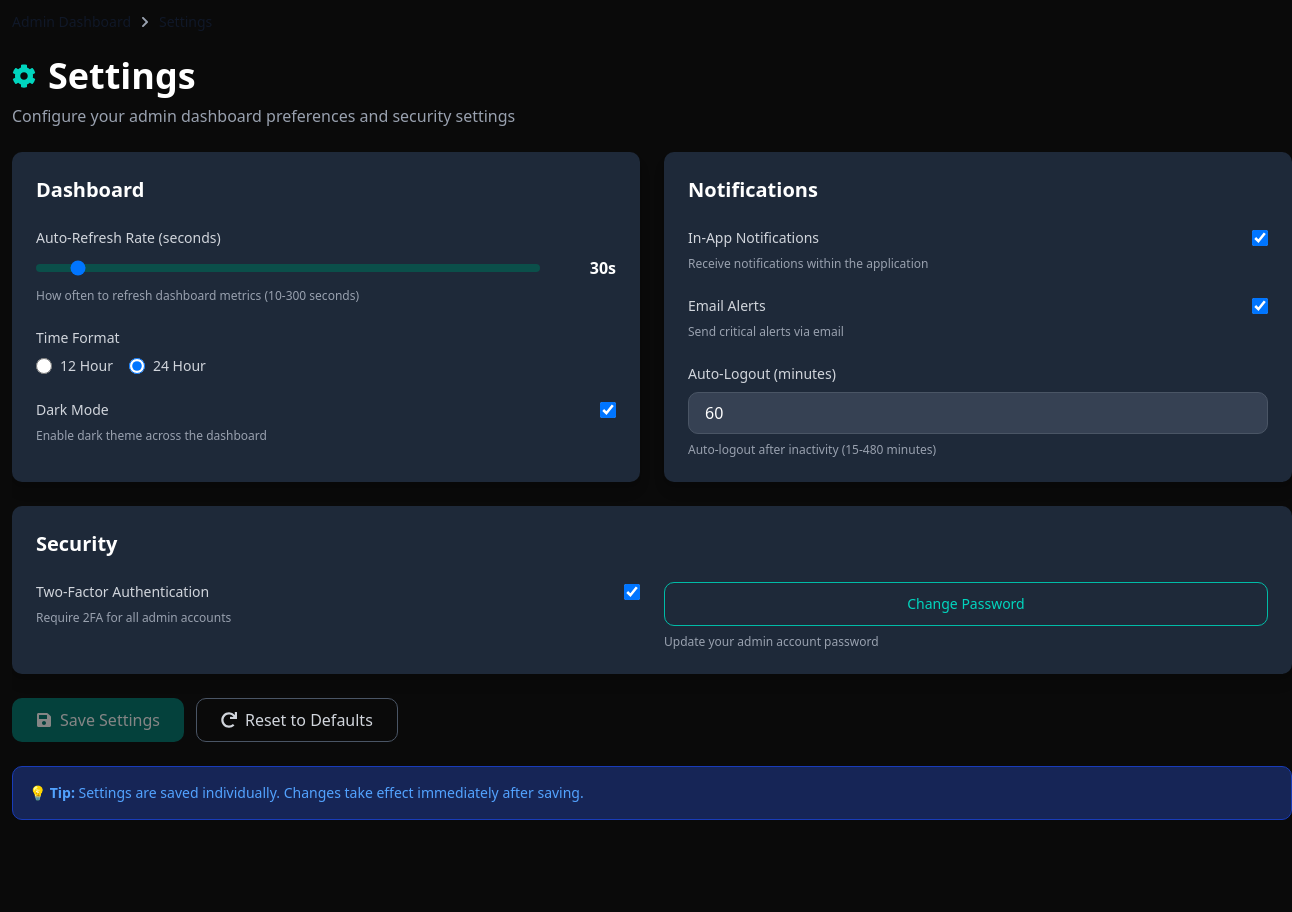
AdminSettings Component › Button States › save button becomes enabled after change
Step 1. Set the slider to "60" → (128, 268), box [36,264,540,272]
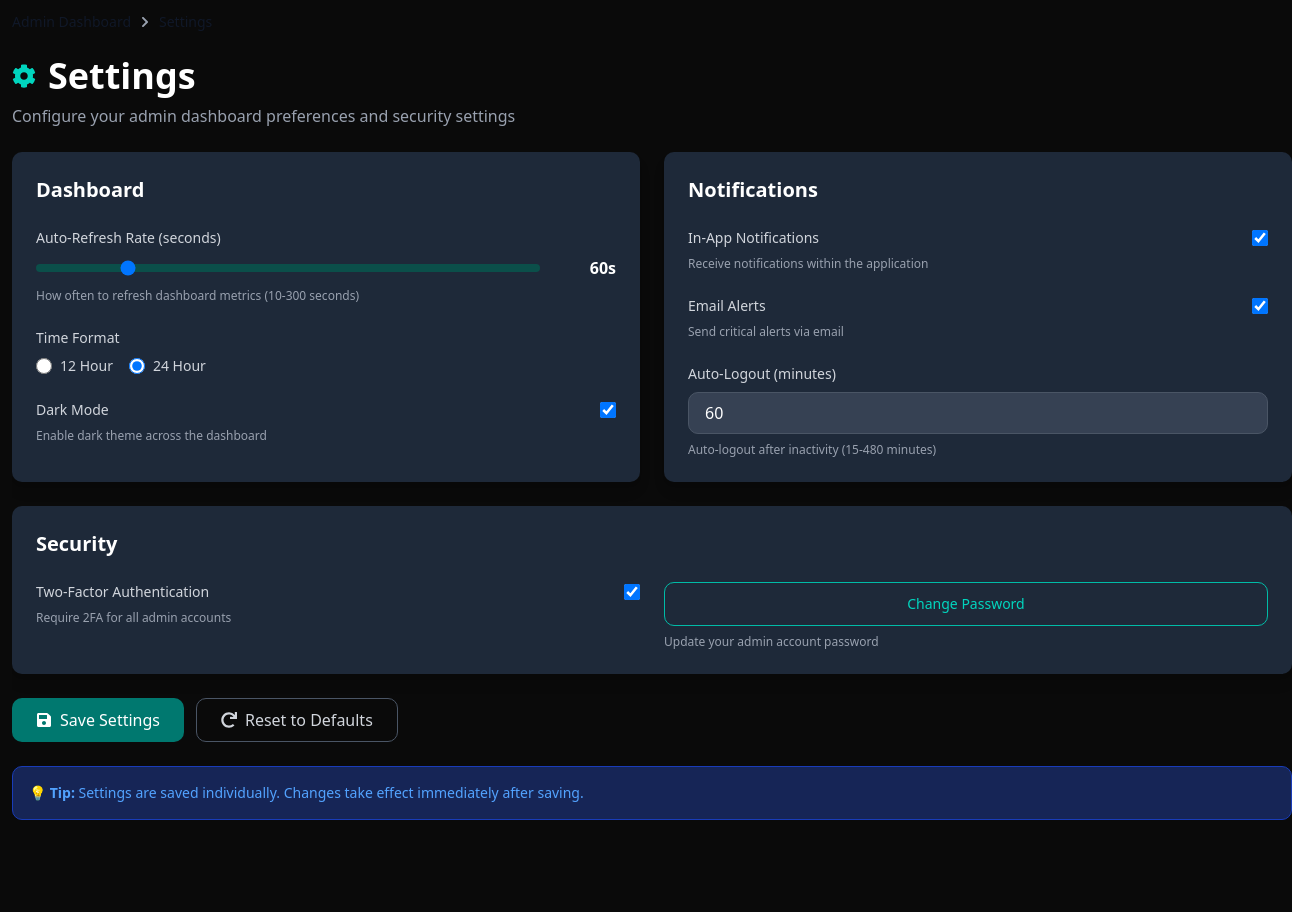
Check: the button with aria-label "save your settings changes" is enabled, box [12,698,184,742]
